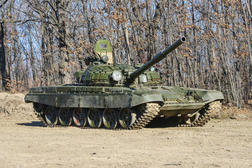t72: (25, 40, 222, 130)
